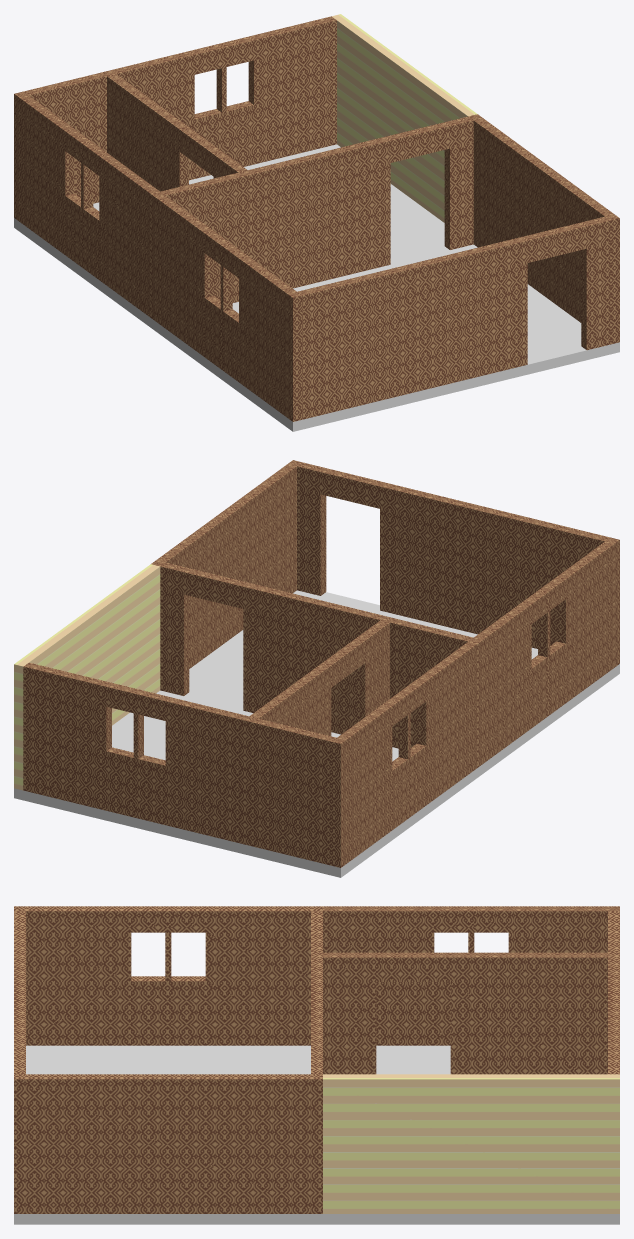
File: waende.fbx
3 renders of one model, top to bottom at view 1: azimuth 30°, elevation 25°; view 2: azimuth 150°, elevation 25°; view 3: azimuth 270°, elevation 25°, orthographic. The views are drawn at different scales.
Parts seen in each view (by area): view 1: Würfel_10, Würfel_5, Würfel_1, Würfel_2, Würfel_8, Würfel_3, Würfel_7, Würfel_4, Würfel_9, Würfel_6; view 2: Würfel_1, Würfel_10, Würfel_5, Würfel_8, Würfel_2, Würfel_3, Würfel_7, Würfel_6, Würfel_9, Würfel_4; view 3: Würfel_3, Würfel_7, Würfel_2, Würfel_9, Würfel_8, Würfel_4, Würfel_6, Würfel_10, Würfel_5, Würfel_1.
Boxes of the visible parts, x1,y1,x2,y2 form: Würfel_10: (297, 216, 610, 419); Würfel_5: (160, 116, 473, 302); Würfel_1: (23, 16, 336, 203); Würfel_2: (150, 191, 302, 421); Würfel_8: (14, 91, 159, 317); Würfel_3: (468, 114, 619, 344); Würfel_7: (332, 14, 477, 222); Würfel_4: (150, 244, 619, 431); Würfel_9: (107, 74, 247, 191); Würfel_6: (14, 144, 444, 327); Würfel_1: (23, 662, 336, 865); Würfel_10: (297, 462, 610, 648); Würfel_5: (160, 562, 473, 748); Würfel_8: (331, 641, 477, 867); Würfel_2: (468, 537, 619, 767); Würfel_3: (151, 460, 301, 668); Würfel_7: (14, 564, 160, 790); Würfel_6: (14, 690, 477, 877); Würfel_9: (249, 620, 389, 736); Würfel_4: (184, 590, 619, 777); Würfel_3: (14, 1074, 322, 1213); Würfel_7: (323, 1074, 619, 1213); Würfel_2: (14, 906, 322, 1045); Würfel_9: (323, 952, 607, 1074); Würfel_8: (323, 906, 619, 1045); Würfel_4: (14, 1045, 322, 1224); Würfel_6: (323, 1045, 619, 1224); Würfel_10: (14, 911, 25, 1074); Würfel_5: (311, 911, 322, 1074); Würfel_1: (608, 911, 619, 1074).
Size of the model in its own units: 1380 by 540 by 2040.
Materials: 8 (8 with a texture image).
